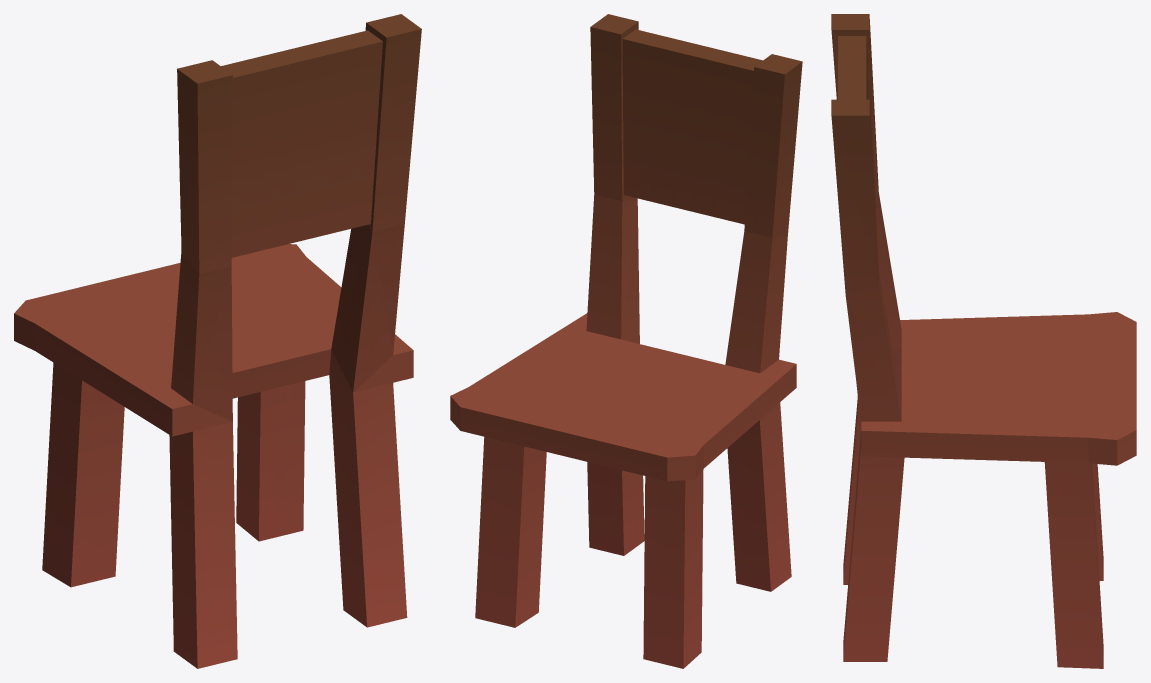
Rendered from stool.glb.
The picture shows the model from 3 angles, left to right: view 1: azimuth 30°, elevation 25°; view 2: azimuth 150°, elevation 25°; view 3: azimuth 270°, elevation 25°; orthographic projection. The views are drawn at different scales.
Visible parts, largest first — view 1: Stool; view 2: Stool; view 3: Stool.
Part boxes in pixels (<box>): Stool: <box>14,14,421,668</box>; Stool: <box>450,14,802,668</box>; Stool: <box>831,14,1136,668</box>.
Size of the model in its own units: 0.5885 by 1.18 by 0.5917.
Materials: 1 (1 with a texture image).
